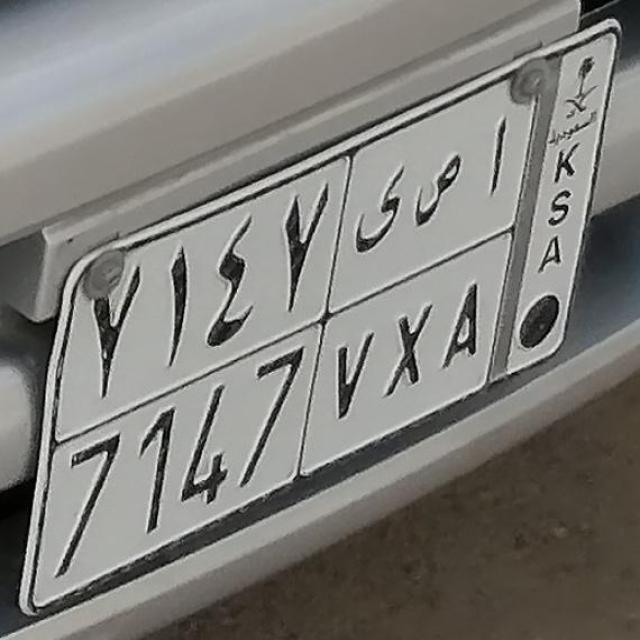license_plate: (22, 17, 616, 622)
